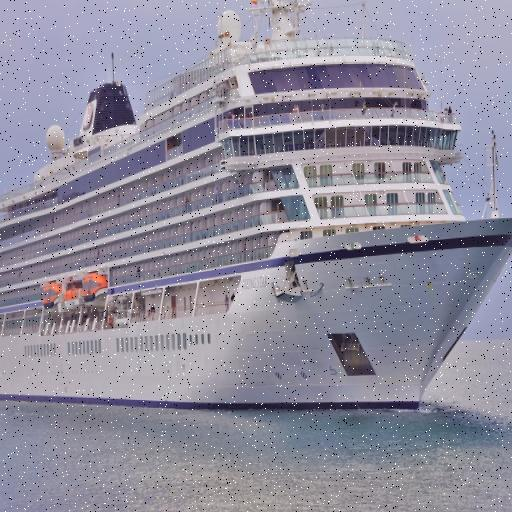cruises: (1, 1, 512, 422)
